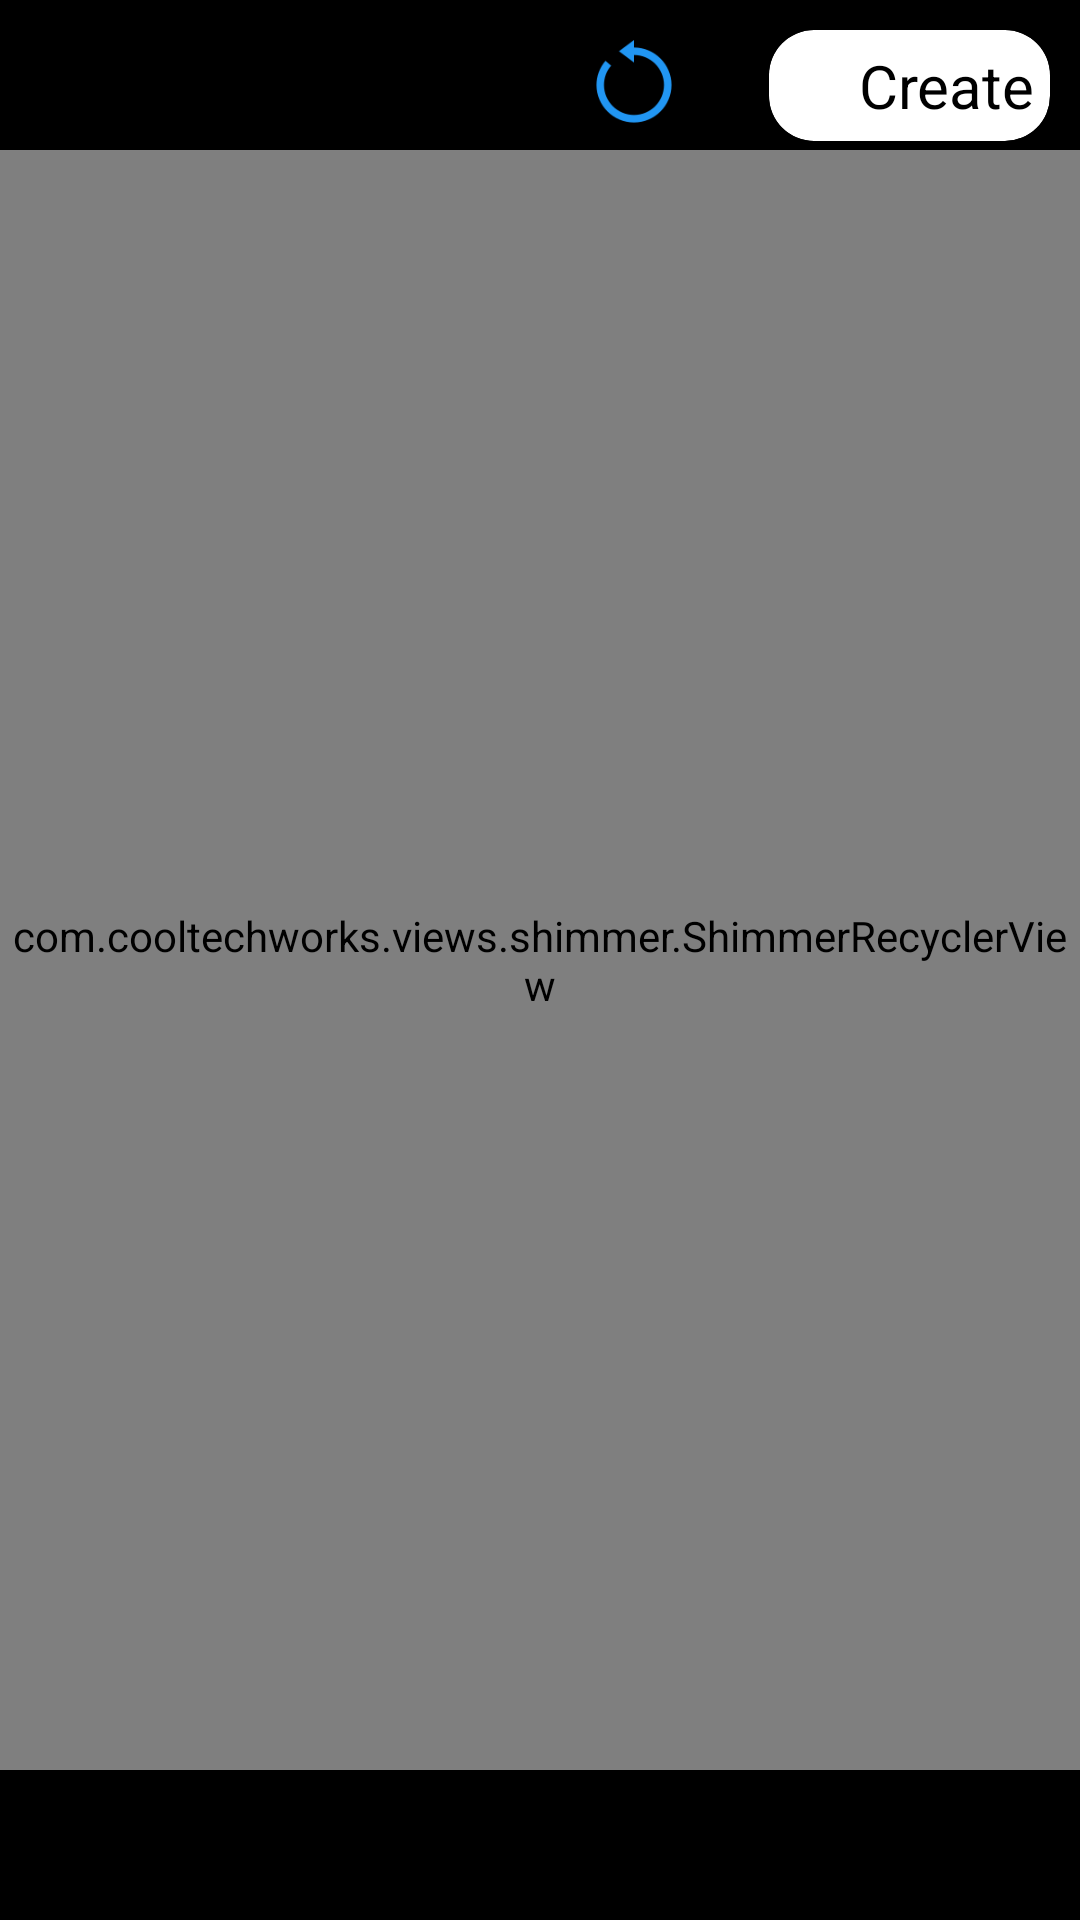

Where to tap for icons on this 1080 × 1920 app screen, as (x=x, y=y):
reload: (x=634, y=81)
